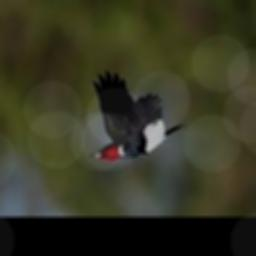Woodpecker: (90, 72, 186, 162)
